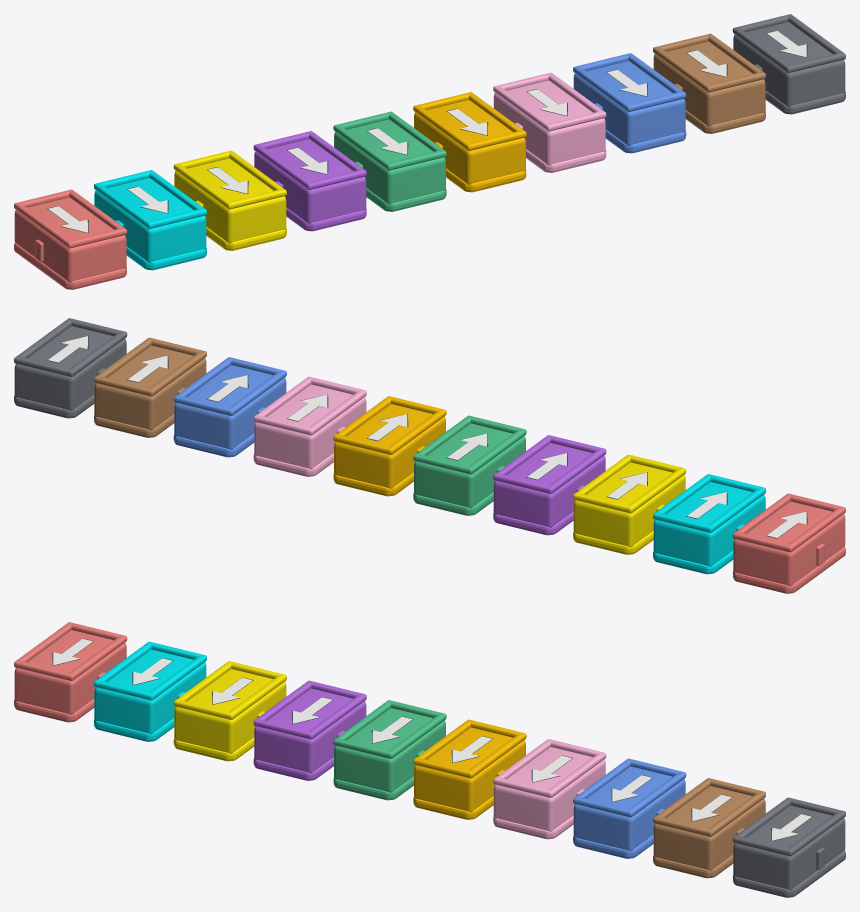
File: ArrowVehicle_Medium_10Colors.fbx
3 views of the same model, one above another, from view 1: azimuth 30°, elevation 25°; view 2: azimuth 150°, elevation 25°; view 3: azimuth 330°, elevation 25° (orthographic).
Parts seen in each view (by area): view 1: Vehicle_Medium_Red, Vehicle_Medium_Blue, Vehicle_Medium_Purple, Vehicle_Medium_Charcoal, Vehicle_Medium_Brown, Vehicle_Medium_Cyan, Vehicle_Medium_Yellow, Vehicle_Medium_Pink, Vehicle_Medium_Orange, Vehicle_Medium_Green; view 2: Vehicle_Medium_Red, Vehicle_Medium_Blue, Vehicle_Medium_Brown, Vehicle_Medium_Charcoal, Vehicle_Medium_Purple, Vehicle_Medium_Yellow, Vehicle_Medium_Cyan, Vehicle_Medium_Pink, Vehicle_Medium_Orange, Vehicle_Medium_Green; view 3: Vehicle_Medium_Charcoal, Vehicle_Medium_Yellow, Vehicle_Medium_Pink, Vehicle_Medium_Red, Vehicle_Medium_Cyan, Vehicle_Medium_Brown, Vehicle_Medium_Blue, Vehicle_Medium_Purple, Vehicle_Medium_Green, Vehicle_Medium_Orange.
Part boxes in pixels (x1,y1,x2,y2): Vehicle_Medium_Red: (14,189,127,289); Vehicle_Medium_Blue: (573,53,686,153); Vehicle_Medium_Purple: (253,131,366,231); Vehicle_Medium_Charcoal: (732,14,845,114); Vehicle_Medium_Brown: (653,33,765,133); Vehicle_Medium_Cyan: (94,170,206,270); Vehicle_Medium_Yellow: (173,150,286,250); Vehicle_Medium_Pink: (493,72,606,172); Vehicle_Medium_Orange: (413,92,526,192); Vehicle_Medium_Green: (333,111,446,211); Vehicle_Medium_Red: (732,493,845,593); Vehicle_Medium_Blue: (173,357,286,457); Vehicle_Medium_Brown: (94,337,206,437); Vehicle_Medium_Charcoal: (14,318,127,418); Vehicle_Medium_Purple: (493,435,606,535); Vehicle_Medium_Yellow: (573,454,686,554); Vehicle_Medium_Cyan: (653,474,765,574); Vehicle_Medium_Pink: (253,376,366,476); Vehicle_Medium_Orange: (333,396,446,496); Vehicle_Medium_Green: (413,415,526,515); Vehicle_Medium_Charcoal: (732,797,845,897); Vehicle_Medium_Yellow: (173,661,286,761); Vehicle_Medium_Pink: (493,739,606,839); Vehicle_Medium_Red: (14,622,127,722); Vehicle_Medium_Cyan: (94,641,206,741); Vehicle_Medium_Brown: (653,778,765,878); Vehicle_Medium_Blue: (573,758,686,858); Vehicle_Medium_Purple: (253,680,366,780); Vehicle_Medium_Green: (333,700,446,800); Vehicle_Medium_Orange: (413,719,526,819).
Bounding box in the file's own units: 24.56 × 1.42 × 3.13.
